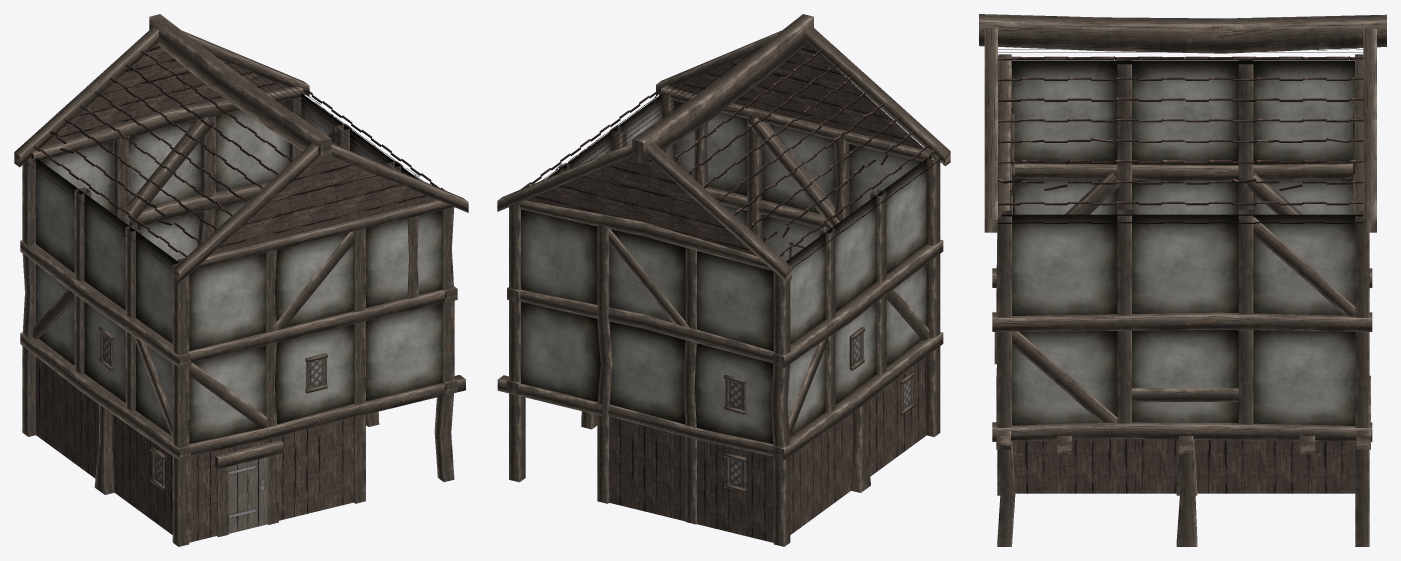
The model's file is Barrack.fbx.
3 renders of one model, left to right at view 1: azimuth 30°, elevation 25°; view 2: azimuth 150°, elevation 25°; view 3: azimuth 270°, elevation 25°, orthographic. The views are drawn at different scales.
Visible parts, largest first — view 1: barrack; view 2: barrack; view 3: barrack.
Boxes of the visible parts, <box> form: barrack: <box>14,14,468,546</box>; barrack: <box>497,14,950,546</box>; barrack: <box>979,14,1386,546</box>.
Bounding box in the file's own units: 660 × 818 × 671.
